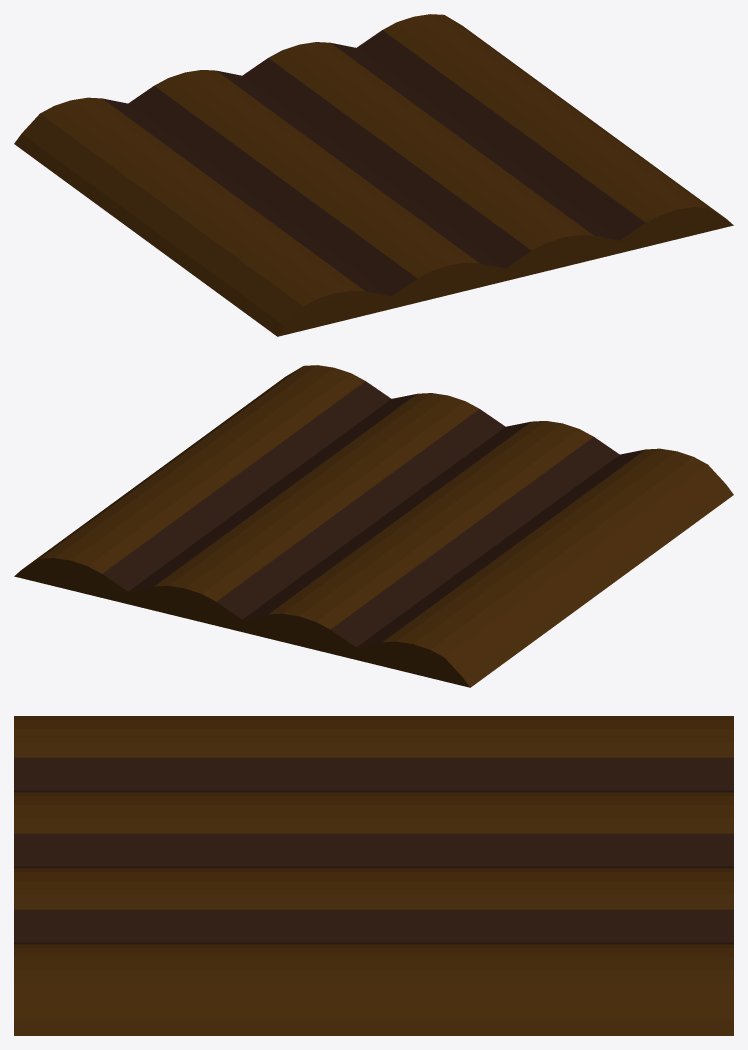
Rendered from tilled_ground.glb.
3 views of the same model, one above another, from view 1: azimuth 30°, elevation 25°; view 2: azimuth 150°, elevation 25°; view 3: azimuth 270°, elevation 25° (orthographic). The views are drawn at different scales.
Parts seen in each view (by area): view 1: Cube; view 2: Cube; view 3: Cube.
Part boxes in pixels (<box>): Cube: <box>14,14,733,336</box>; Cube: <box>14,365,733,687</box>; Cube: <box>14,716,733,1035</box>.
Size of the model in its own units: 2.18 by 0.1357 by 2.18.
